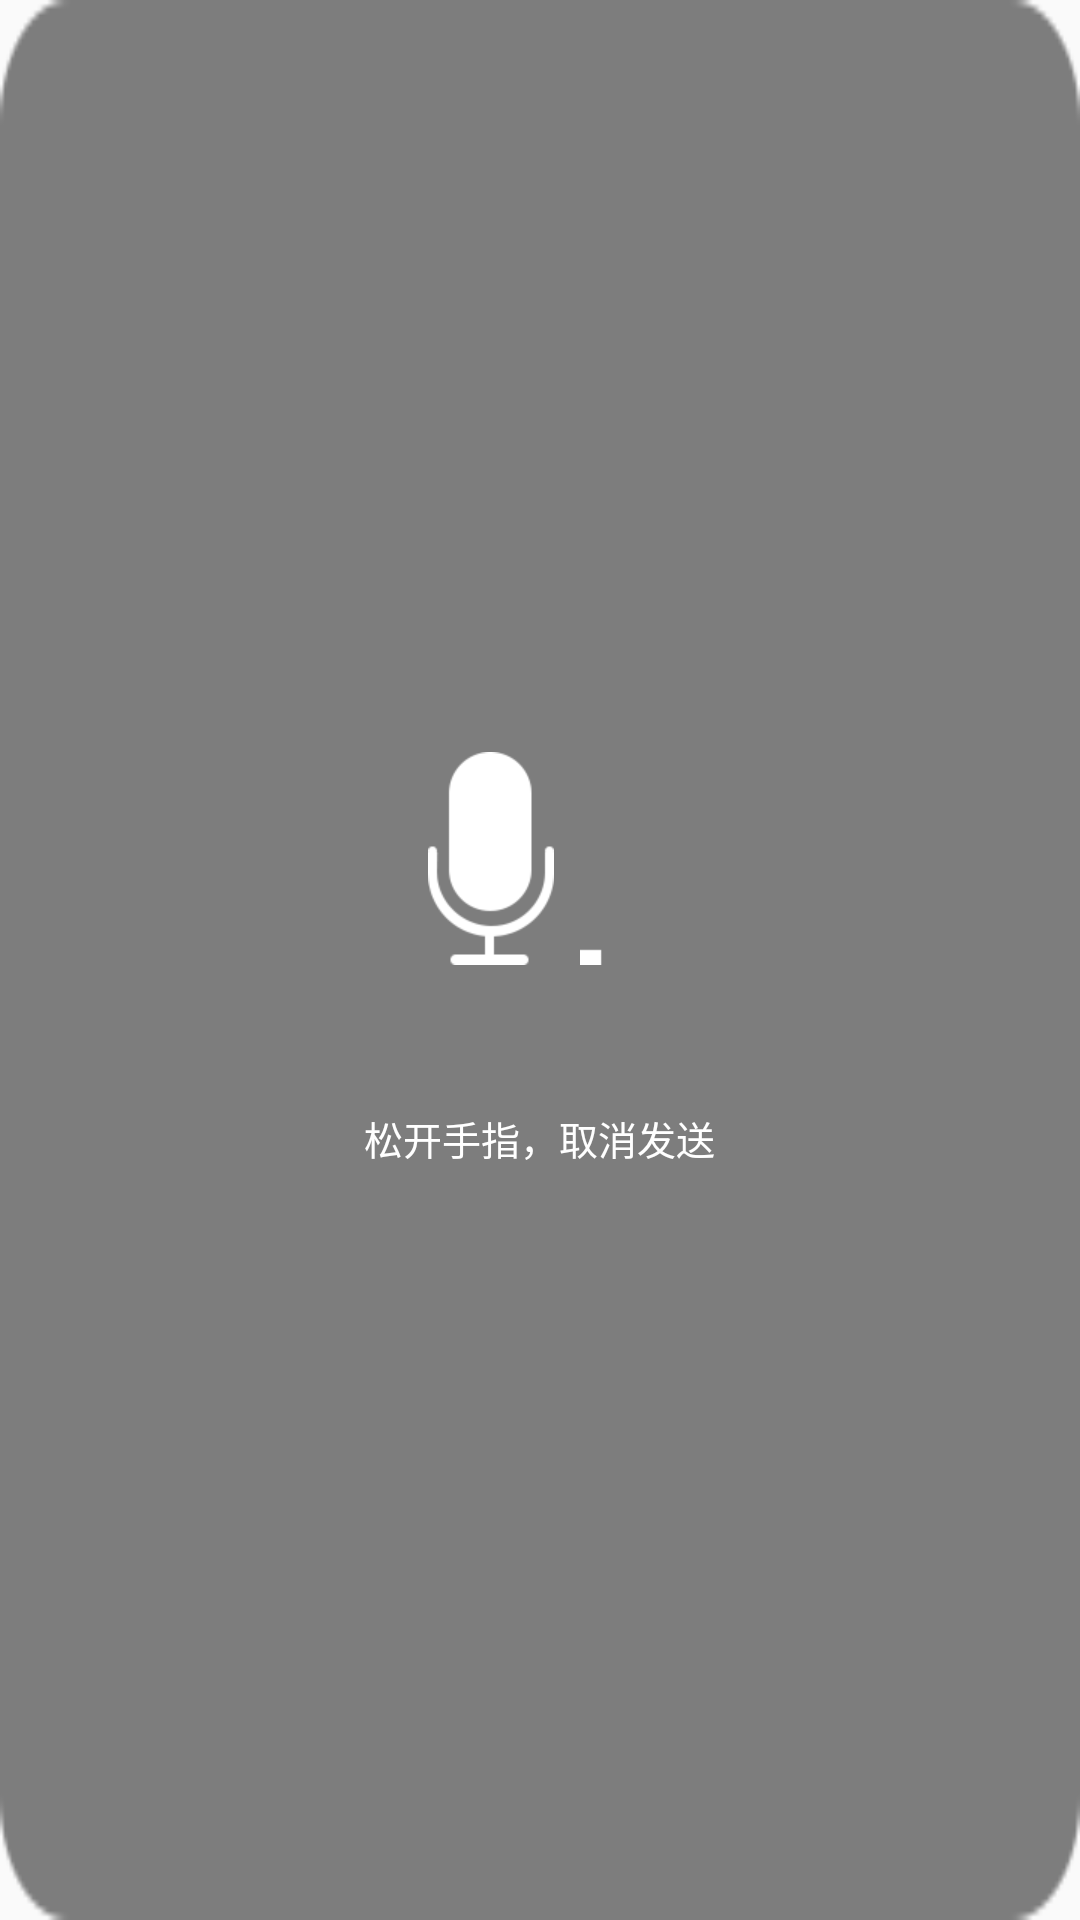

Icon click points for this 1080px×1920px phone screenshot, format (x,y):
dlg pressvoice record: (491,858)
